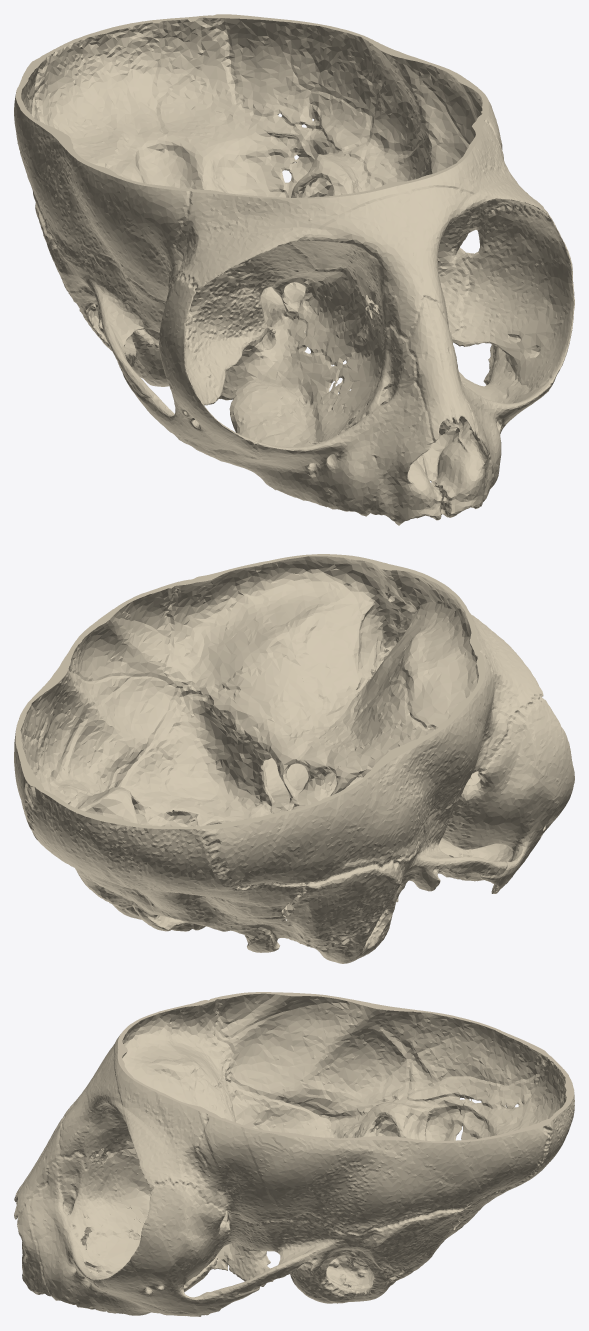
Rendered from cranium.glb.
The picture shows the model from 3 angles, top to bottom: view 1: azimuth 30°, elevation 25°; view 2: azimuth 150°, elevation 25°; view 3: azimuth 270°, elevation 25°; orthographic projection. The views are drawn at different scales.
Parts seen in each view (by area): view 1: MeshLab decimated.011; view 2: MeshLab decimated.011; view 3: MeshLab decimated.011.
Part boxes in pixels (<box>): MeshLab decimated.011: <box>14,14,574,525</box>; MeshLab decimated.011: <box>14,554,574,963</box>; MeshLab decimated.011: <box>14,992,574,1316</box>.
Bounding box in the file's own units: 36 × 25.64 × 55.73.
